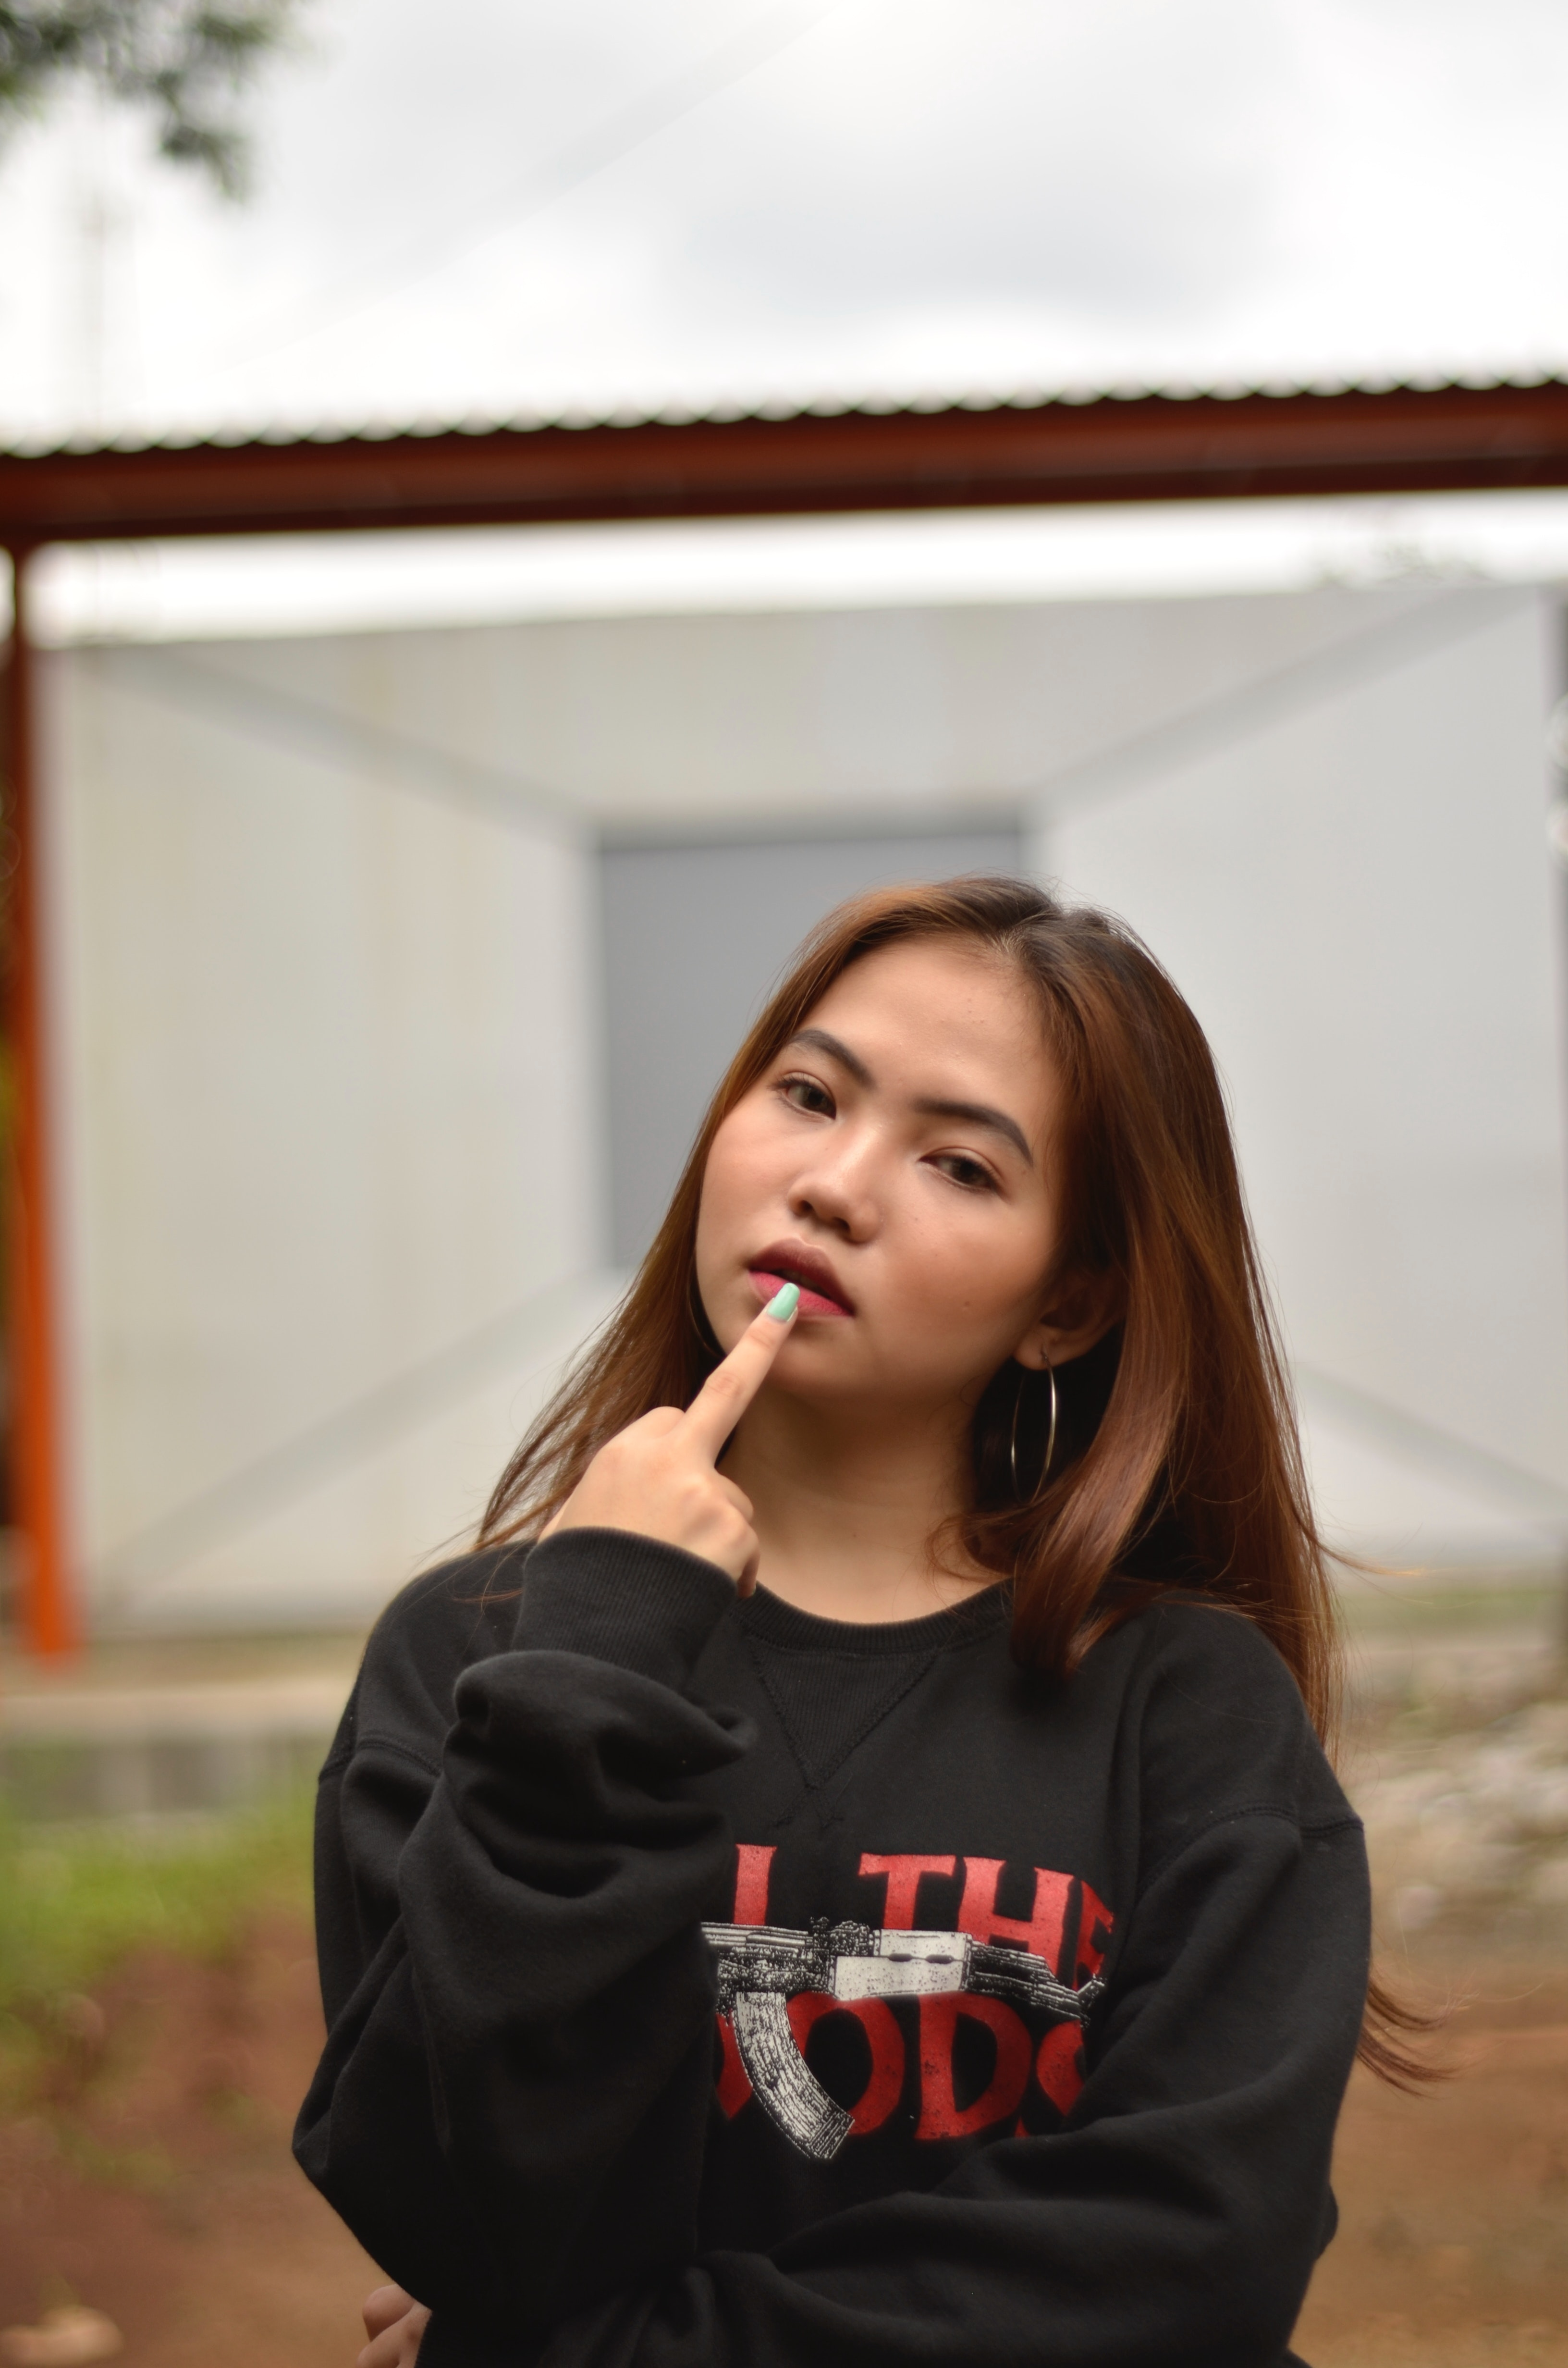bad fingers: (535, 1276, 808, 1598)
